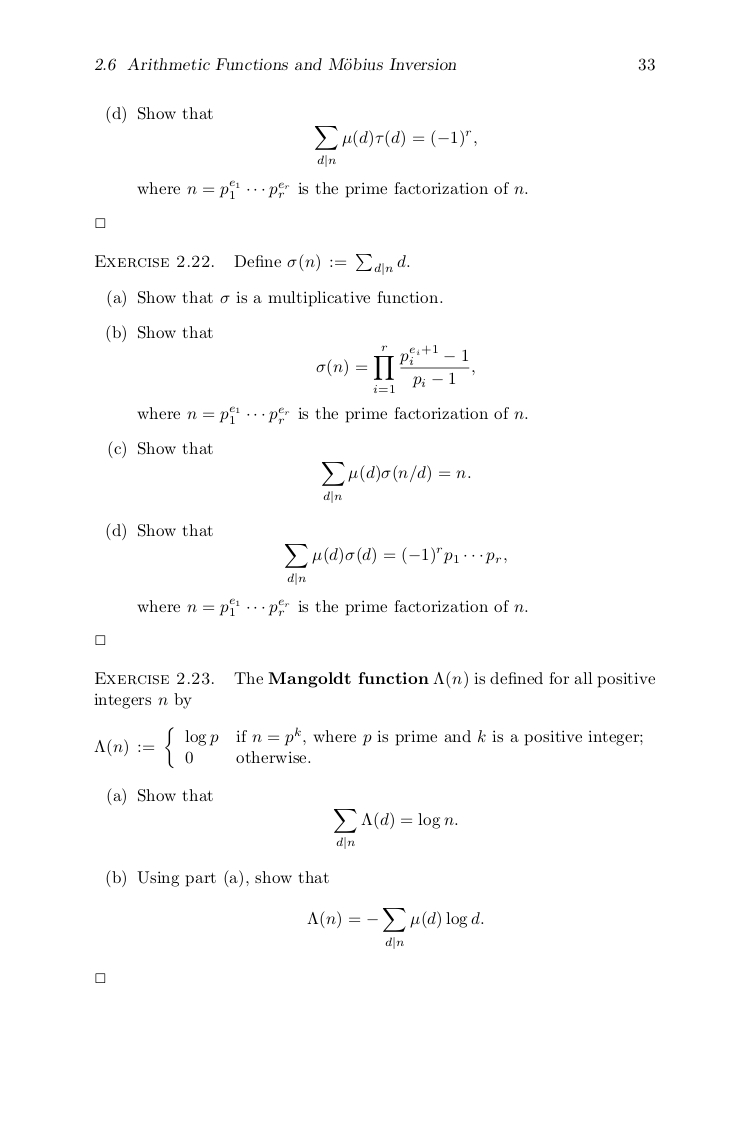formula: (94, 726, 642, 768), (285, 544, 506, 584), (316, 344, 474, 393), (307, 908, 483, 948), (315, 126, 476, 166), (322, 462, 470, 502), (334, 809, 457, 848)
